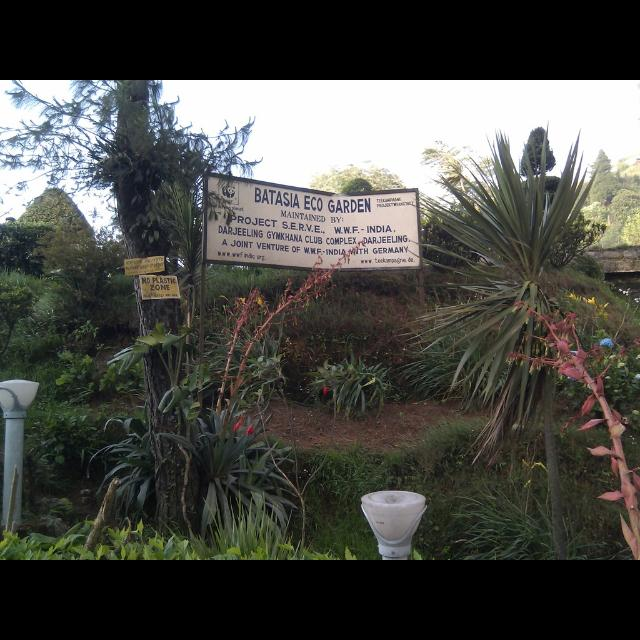Flower: (571, 293, 607, 313), (234, 416, 244, 434), (599, 340, 613, 348), (245, 424, 253, 436), (321, 382, 331, 391)
